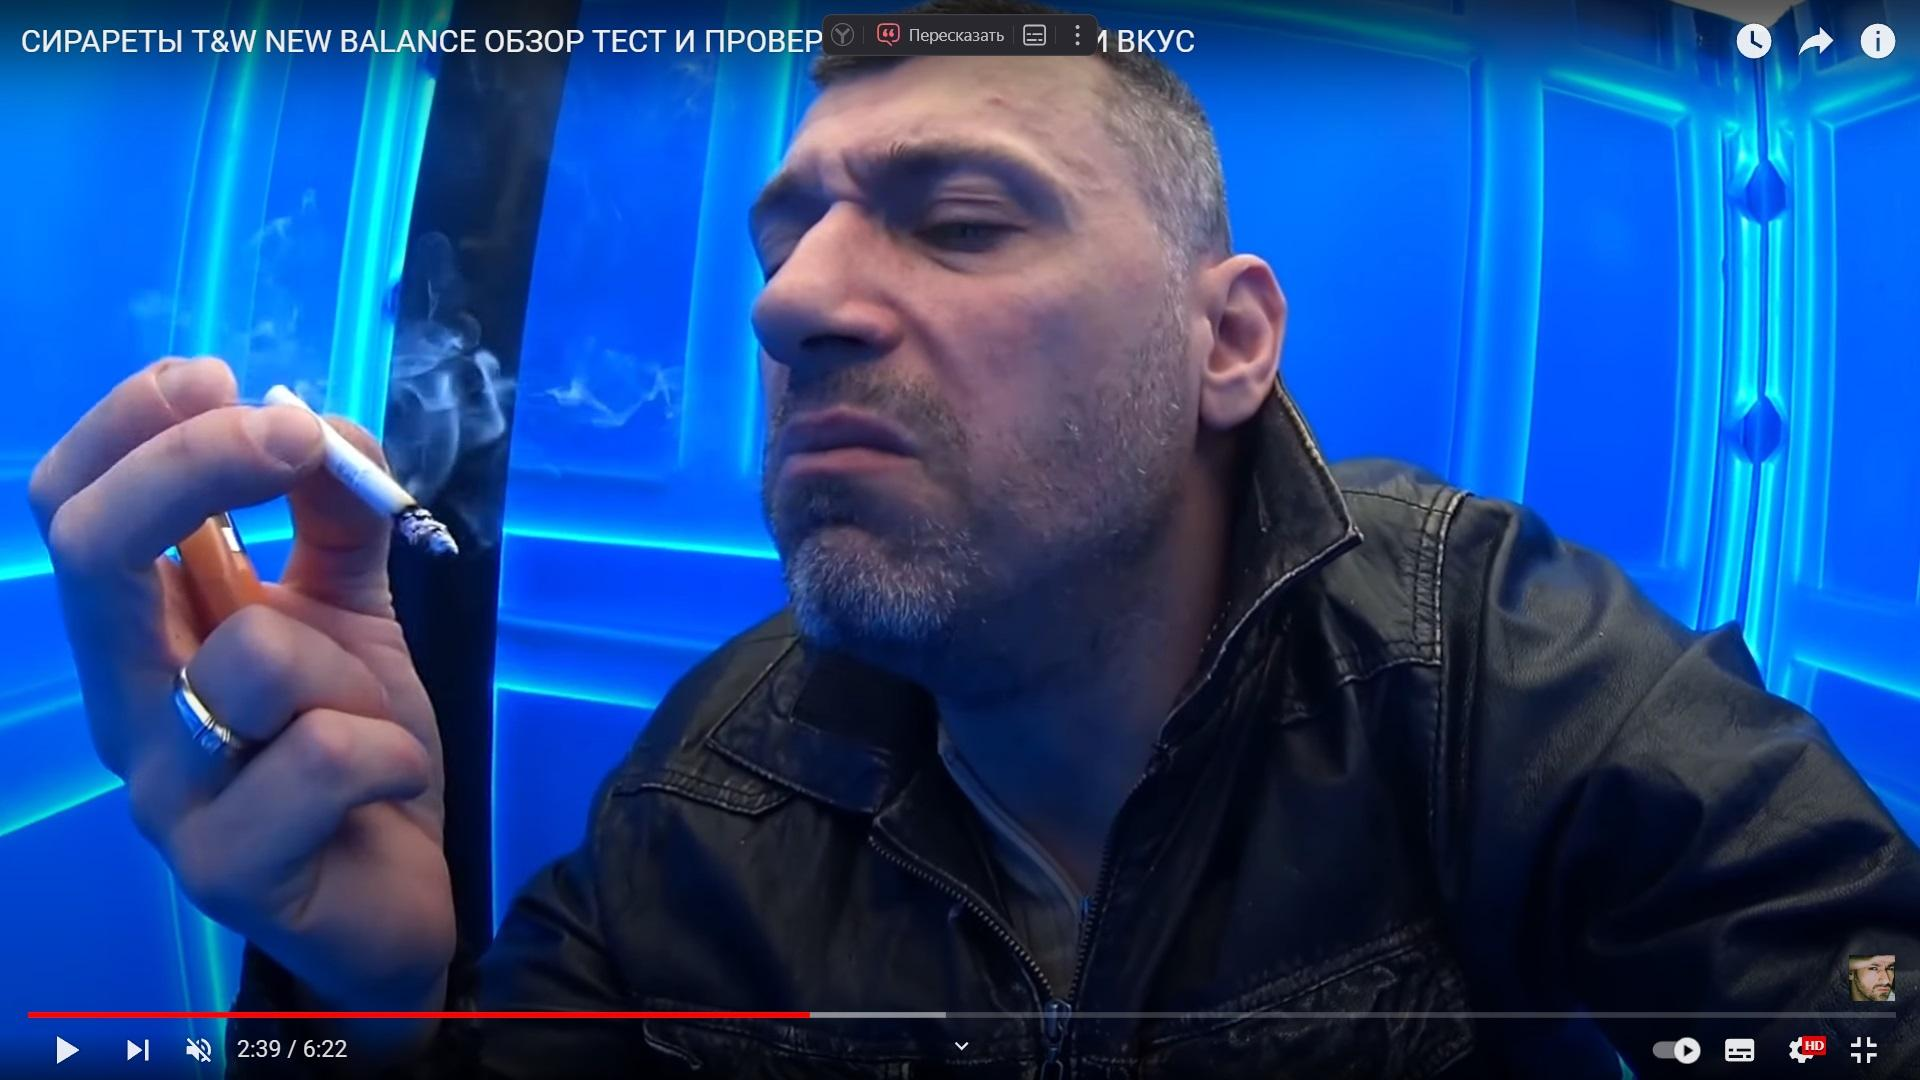cigarette: (261, 384, 459, 559)
